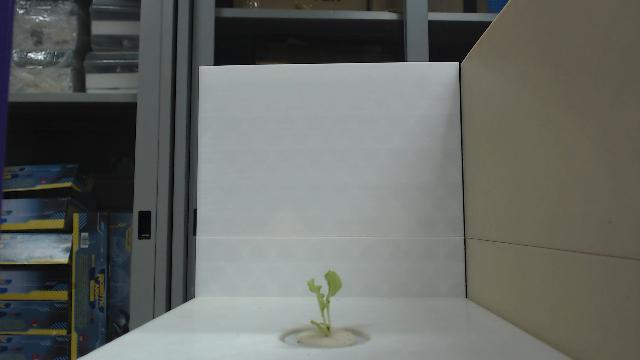Seedling Stage: (302, 269, 344, 339)
